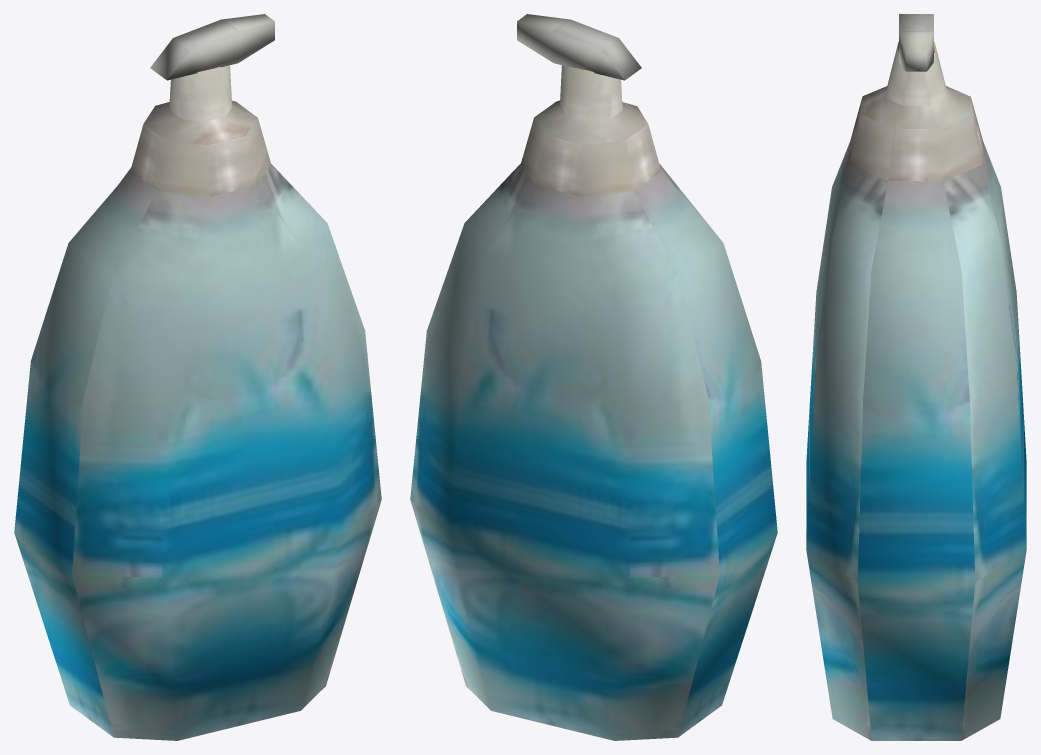
The model's file is Hand_soap_02.glb.
The picture shows the model from 3 angles, left to right: view 1: azimuth 30°, elevation 25°; view 2: azimuth 150°, elevation 25°; view 3: azimuth 270°, elevation 25°; orthographic projection.
Visible parts, largest first — view 1: Hand_soap_02; view 2: Hand_soap_02; view 3: Hand_soap_02.
Part boxes in pixels (x1=…): Hand_soap_02: x1=14, y1=14, x2=381, y2=740; Hand_soap_02: x1=410, y1=14, x2=777, y2=740; Hand_soap_02: x1=806, y1=14, x2=1026, y2=740.
Bounding box in the file's own units: 0.0867 × 0.1771 × 0.0525.
1 material, 1 textured.
